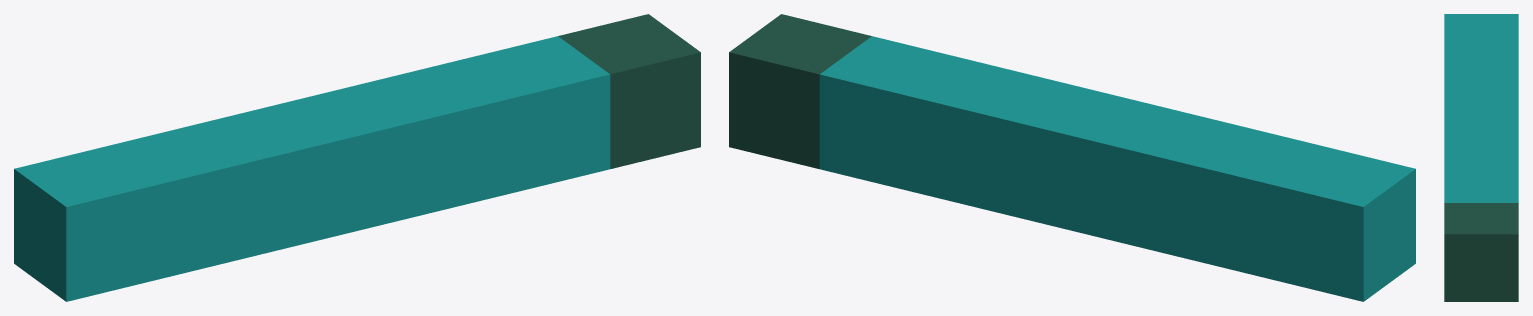
Rendered from RightArm.obj.
3 renders of one model, left to right at view 1: azimuth 30°, elevation 25°; view 2: azimuth 150°, elevation 25°; view 3: azimuth 270°, elevation 25°, orthographic. The views are drawn at different scales.
Parts seen in each view (by area): view 1: material_0_group, material_1_group; view 2: material_0_group, material_1_group; view 3: material_0_group, material_1_group.
Boxes of the visible parts, x1,y1,x2,y2 form: material_0_group: (14,36,610,301); material_1_group: (558,14,700,168); material_0_group: (819,36,1415,301); material_1_group: (729,14,871,168); material_0_group: (1444,14,1518,202); material_1_group: (1444,203,1518,301).
Bounding box in the file's own units: 7 × 1 × 1.
